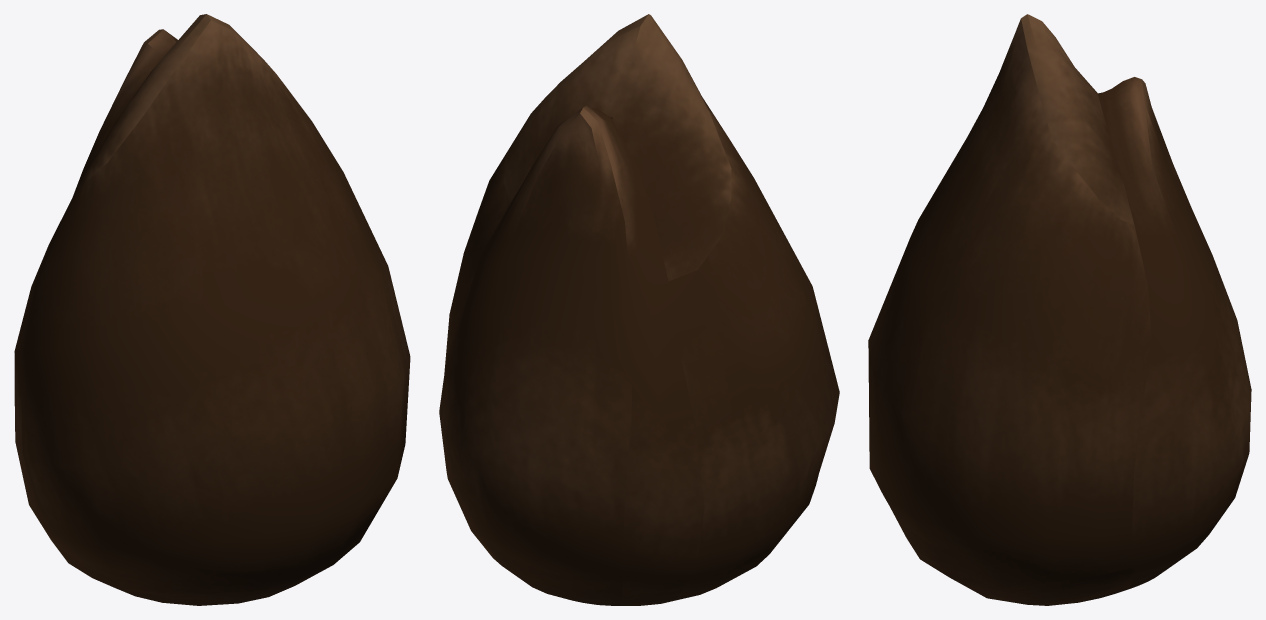
File: seed.fbx
3 views of the same model, side by side, from view 1: azimuth 30°, elevation 25°; view 2: azimuth 150°, elevation 25°; view 3: azimuth 270°, elevation 25° (orthographic). The views are drawn at different scales.
Parts seen in each view (by area): view 1: BSurfaceMesh; view 2: BSurfaceMesh; view 3: BSurfaceMesh.
Boxes of the visible parts, left/top/right/bottom form: BSurfaceMesh: left=14, top=14, right=410, bottom=605; BSurfaceMesh: left=439, top=14, right=839, bottom=605; BSurfaceMesh: left=868, top=14, right=1251, bottom=605.
Bounding box in the file's own units: 358 × 552 × 342.
Materials: 1 (1 with a texture image).
